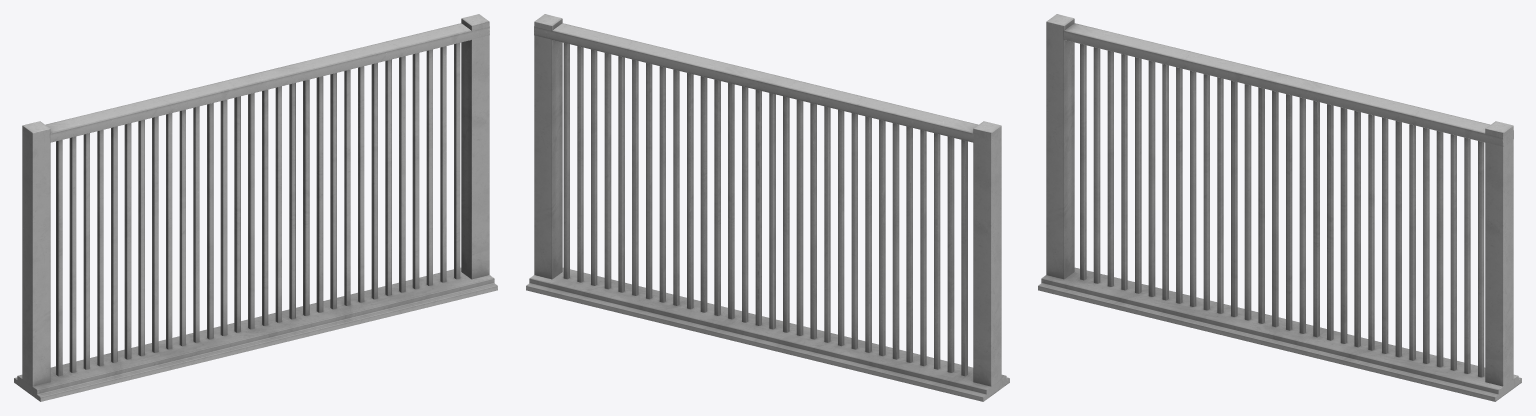
The model's file is Fence_01.FBX.
3 renders of one model, left to right at view 1: azimuth 30°, elevation 25°; view 2: azimuth 150°, elevation 25°; view 3: azimuth 330°, elevation 25°, orthographic.
Visible parts, largest first — view 1: Fence_01; view 2: Fence_01; view 3: Fence_01.
Boxes of the visible parts, x1,y1,x2,y2 form: Fence_01: (14,14,497,401); Fence_01: (526,14,1009,401); Fence_01: (1038,14,1521,401).
Bounding box in the file's own units: 200 × 110 × 20.
